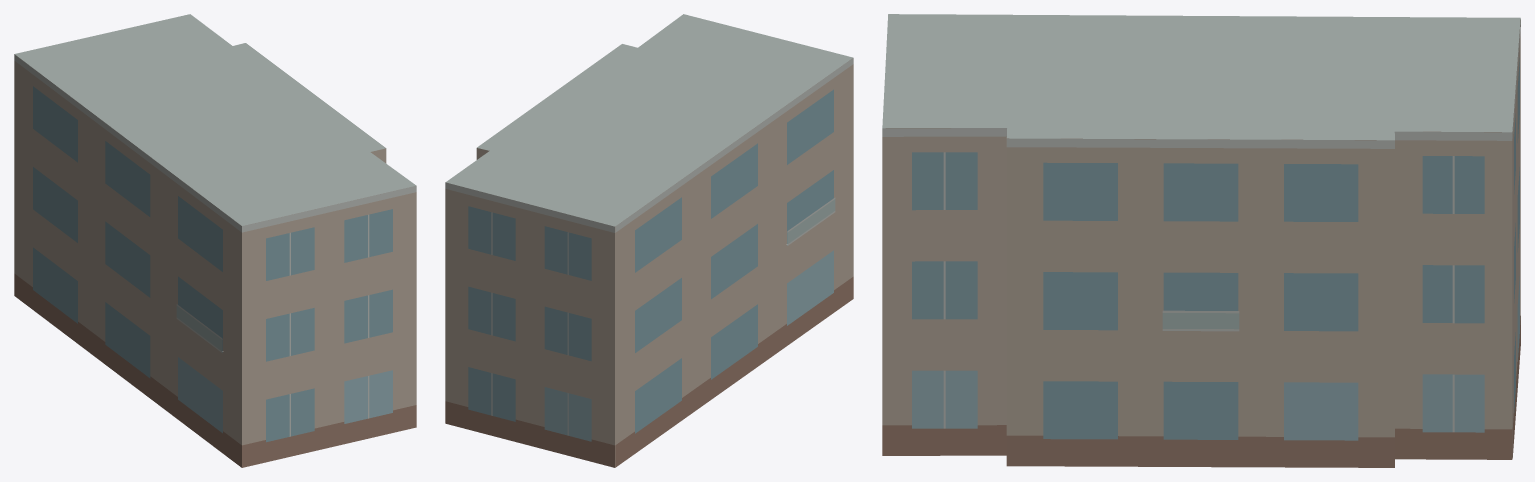
File: survey-upis-32687667.glb
3 views of the same model, side by side, from view 1: azimuth 30°, elevation 25°; view 2: azimuth 150°, elevation 25°; view 3: azimuth 270°, elevation 25° (orthographic). The views are drawn at different scales.
Visible parts, largest first — view 1: survey-upis-32687667.tmp; view 2: survey-upis-32687667.tmp; view 3: survey-upis-32687667.tmp.
Boxes of the visible parts, bbox=[...] form: survey-upis-32687667.tmp: bbox=[14, 14, 416, 467]; survey-upis-32687667.tmp: bbox=[445, 14, 853, 467]; survey-upis-32687667.tmp: bbox=[882, 14, 1520, 467].
Bounding box in the file's own units: 7.58 × 9.15 × 16.17.
